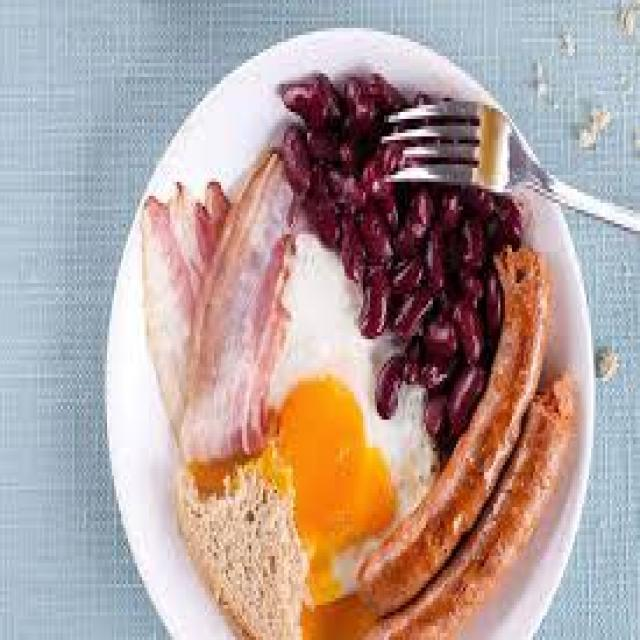Wet: (358, 227, 603, 640), (270, 86, 507, 427), (140, 140, 322, 460), (162, 454, 344, 640)
